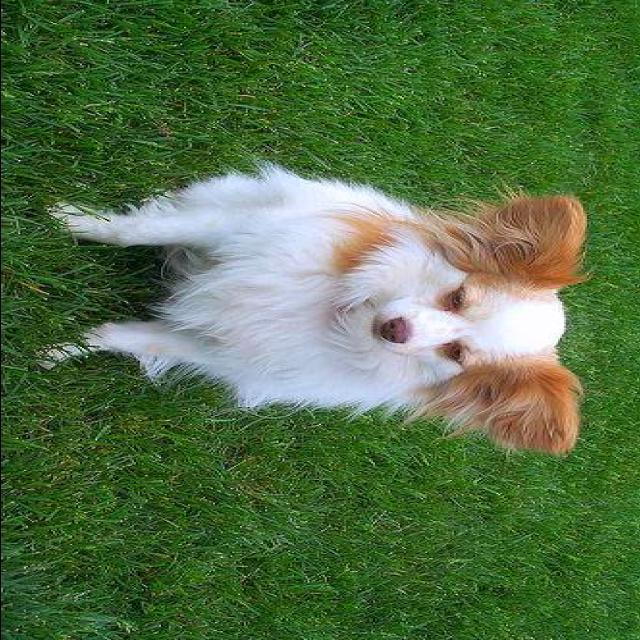papillon: (37, 153, 596, 464)
